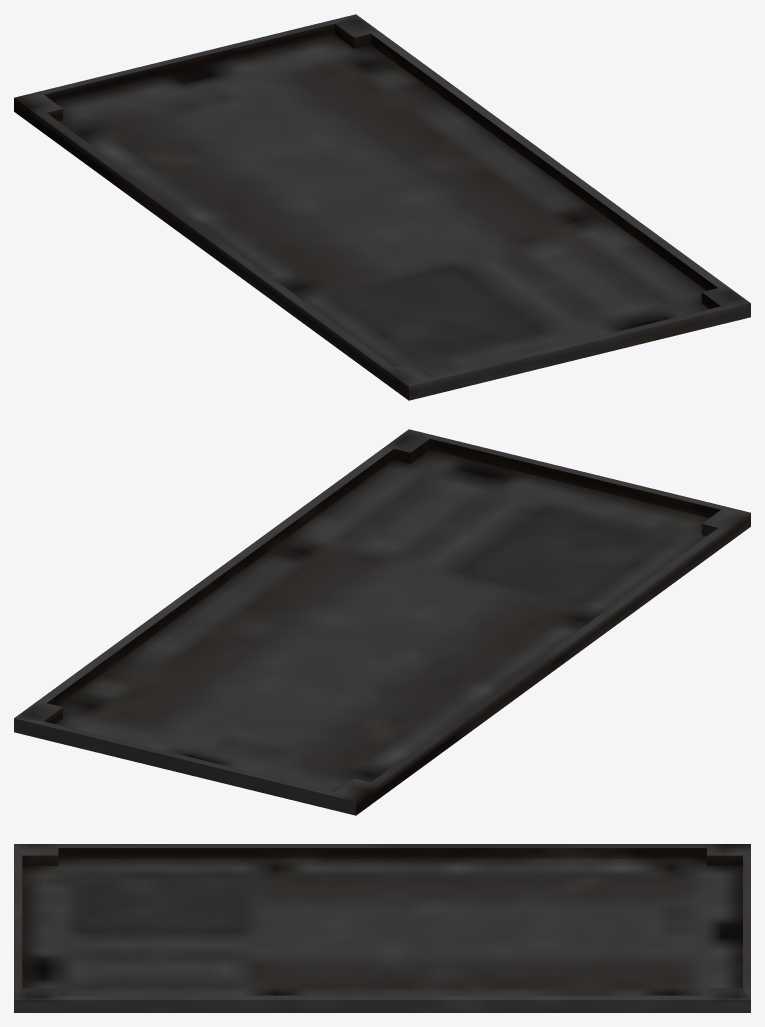
The model's file is Panel_07.FBX.
The picture shows the model from 3 angles, top to bottom: view 1: azimuth 30°, elevation 25°; view 2: azimuth 150°, elevation 25°; view 3: azimuth 270°, elevation 25°; orthographic projection. The views are drawn at different scales.
Parts seen in each view (by area): view 1: Panel_07; view 2: Panel_07; view 3: Panel_07.
Boxes of the visible parts, x1,y1,x2,y2 form: Panel_07: [14, 14, 750, 400]; Panel_07: [14, 429, 750, 815]; Panel_07: [14, 844, 750, 1012].
Bounding box in the file's own units: 100 × 3.9 × 200.
